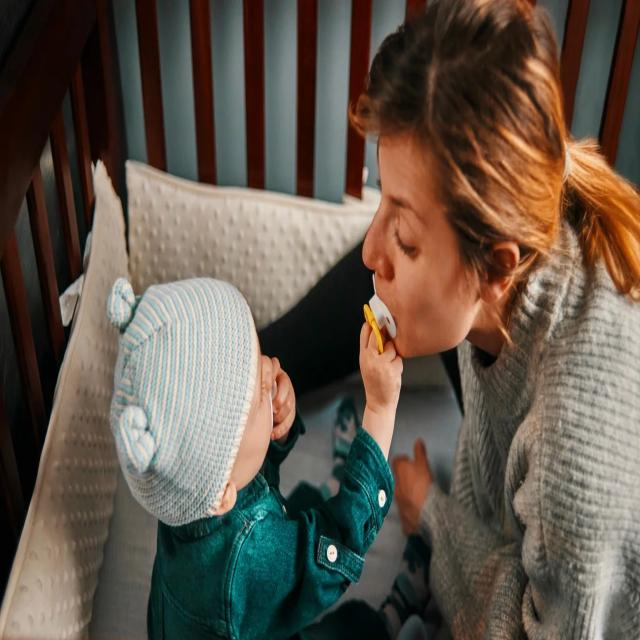adult: (350, 2, 640, 640)
child: (112, 277, 404, 640)
